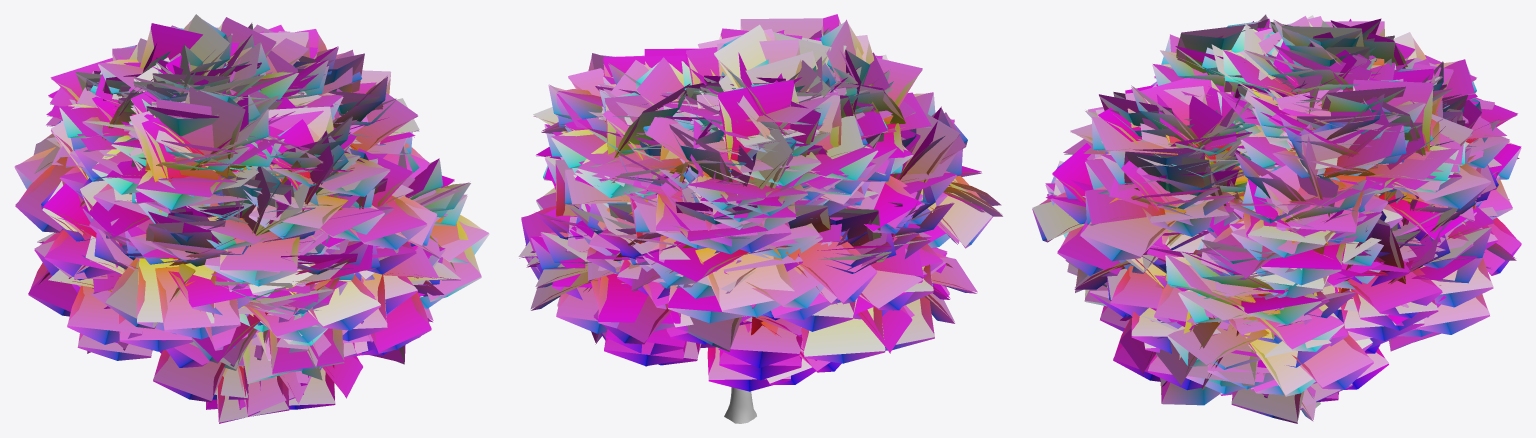
Rendered from oak_02_1.fbx.
The picture shows the model from 3 angles, left to right: view 1: azimuth 30°, elevation 25°; view 2: azimuth 150°, elevation 25°; view 3: azimuth 270°, elevation 25°; orthographic projection. The views are drawn at different scales.
Visible parts, largest first — view 1: oak_leaves_02_1_shadow, oak_leaves_02_1_lod_0; view 2: oak_leaves_02_1_shadow, oak_leaves_02_1_lod_0, oak_tree_02_1_lod_0; view 3: oak_leaves_02_1_shadow, oak_leaves_02_1_lod_0.
Boxes of the visible parts, left/top/right/bottom form: oak_leaves_02_1_shadow: left=14, top=14, right=489, bottom=422; oak_leaves_02_1_lod_0: left=14, top=19, right=489, bottom=423; oak_leaves_02_1_shadow: left=518, top=14, right=1002, bottom=383; oak_leaves_02_1_lod_0: left=519, top=20, right=1002, bottom=391; oak_tree_02_1_lod_0: left=724, top=387, right=756, bottom=423; oak_leaves_02_1_shadow: left=1032, top=14, right=1521, bottom=422; oak_leaves_02_1_lod_0: left=1032, top=16, right=1521, bottom=423.
Size of what is drawn, in the model's own units: 27.74 by 23.57 by 27.83.
